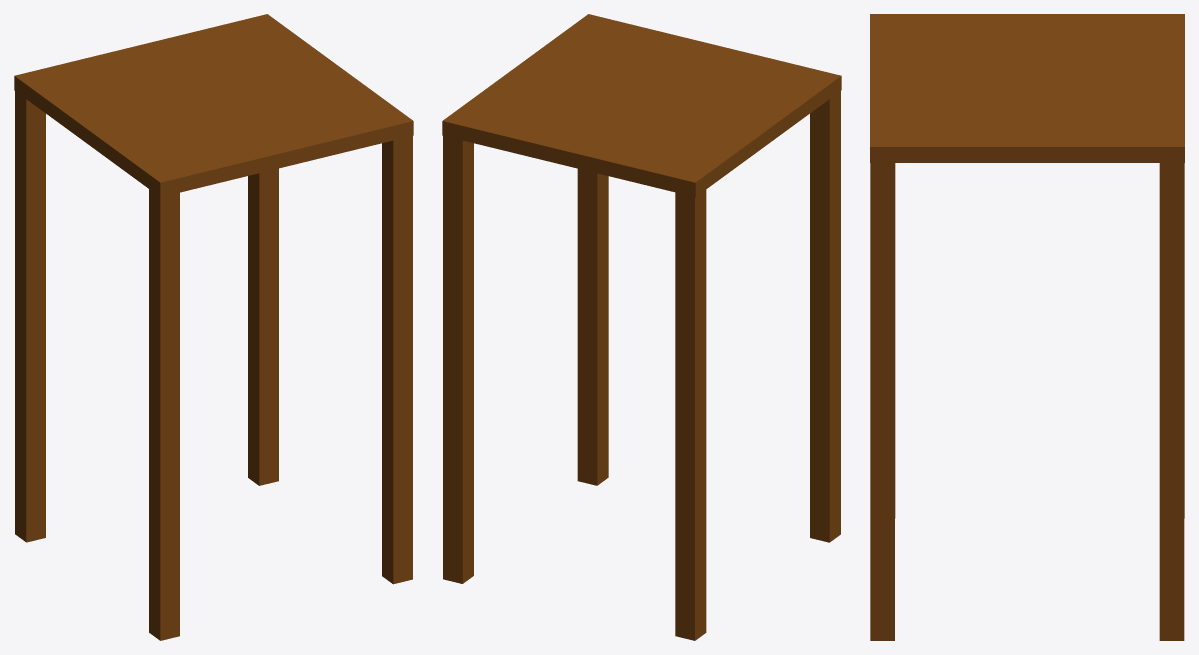
File: roof.dae
The picture shows the model from 3 angles, left to right: view 1: azimuth 30°, elevation 25°; view 2: azimuth 150°, elevation 25°; view 3: azimuth 270°, elevation 25°; orthographic projection. The views are drawn at different scales.
Visible parts, largest first — view 1: Cube, Cube_002, Cube_003, Cube_004, Cube_001; view 2: Cube, Cube_004, Cube_001, Cube_002, Cube_003; view 3: Cube, Cube_001, Cube_003.
Boxes of the visible parts, x1,y1,x2,y2 form: Cube: (14, 14, 413, 197); Cube_002: (149, 189, 179, 640); Cube_003: (382, 136, 412, 584); Cube_004: (15, 91, 45, 542); Cube_001: (248, 168, 278, 485); Cube: (442, 14, 841, 197); Cube_004: (675, 190, 706, 640); Cube_001: (443, 136, 473, 583); Cube_002: (810, 91, 840, 542); Cube_003: (577, 168, 608, 485); Cube: (870, 14, 1184, 162); Cube_001: (1159, 163, 1184, 640); Cube_003: (870, 163, 894, 640).
Size of the model in its own units: 4 by 4 by 6.92.
